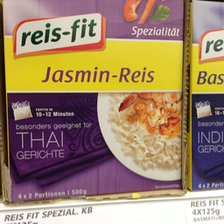rice: (3, 1, 185, 203)
